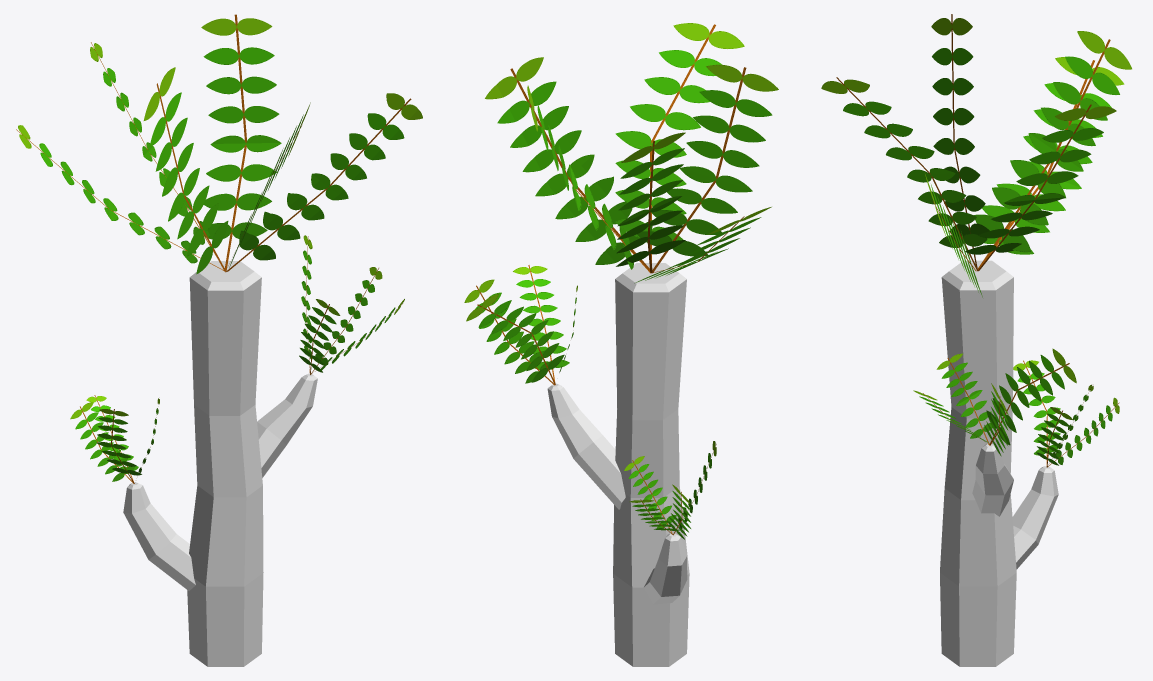
Rendered from Plant2_2.fbx.
3 views of the same model, side by side, from view 1: azimuth 30°, elevation 25°; view 2: azimuth 150°, elevation 25°; view 3: azimuth 270°, elevation 25° (orthographic).
Parts seen in each view (by area): view 1: Plant2_2; view 2: Plant2_2; view 3: Plant2_2.
Boxes of the visible parts, x1,y1,x2,y2 form: Plant2_2: [16, 14, 422, 666]; Plant2_2: [464, 23, 778, 666]; Plant2_2: [821, 14, 1131, 666].
Bounding box in the file's own units: 590 × 966 × 467.
